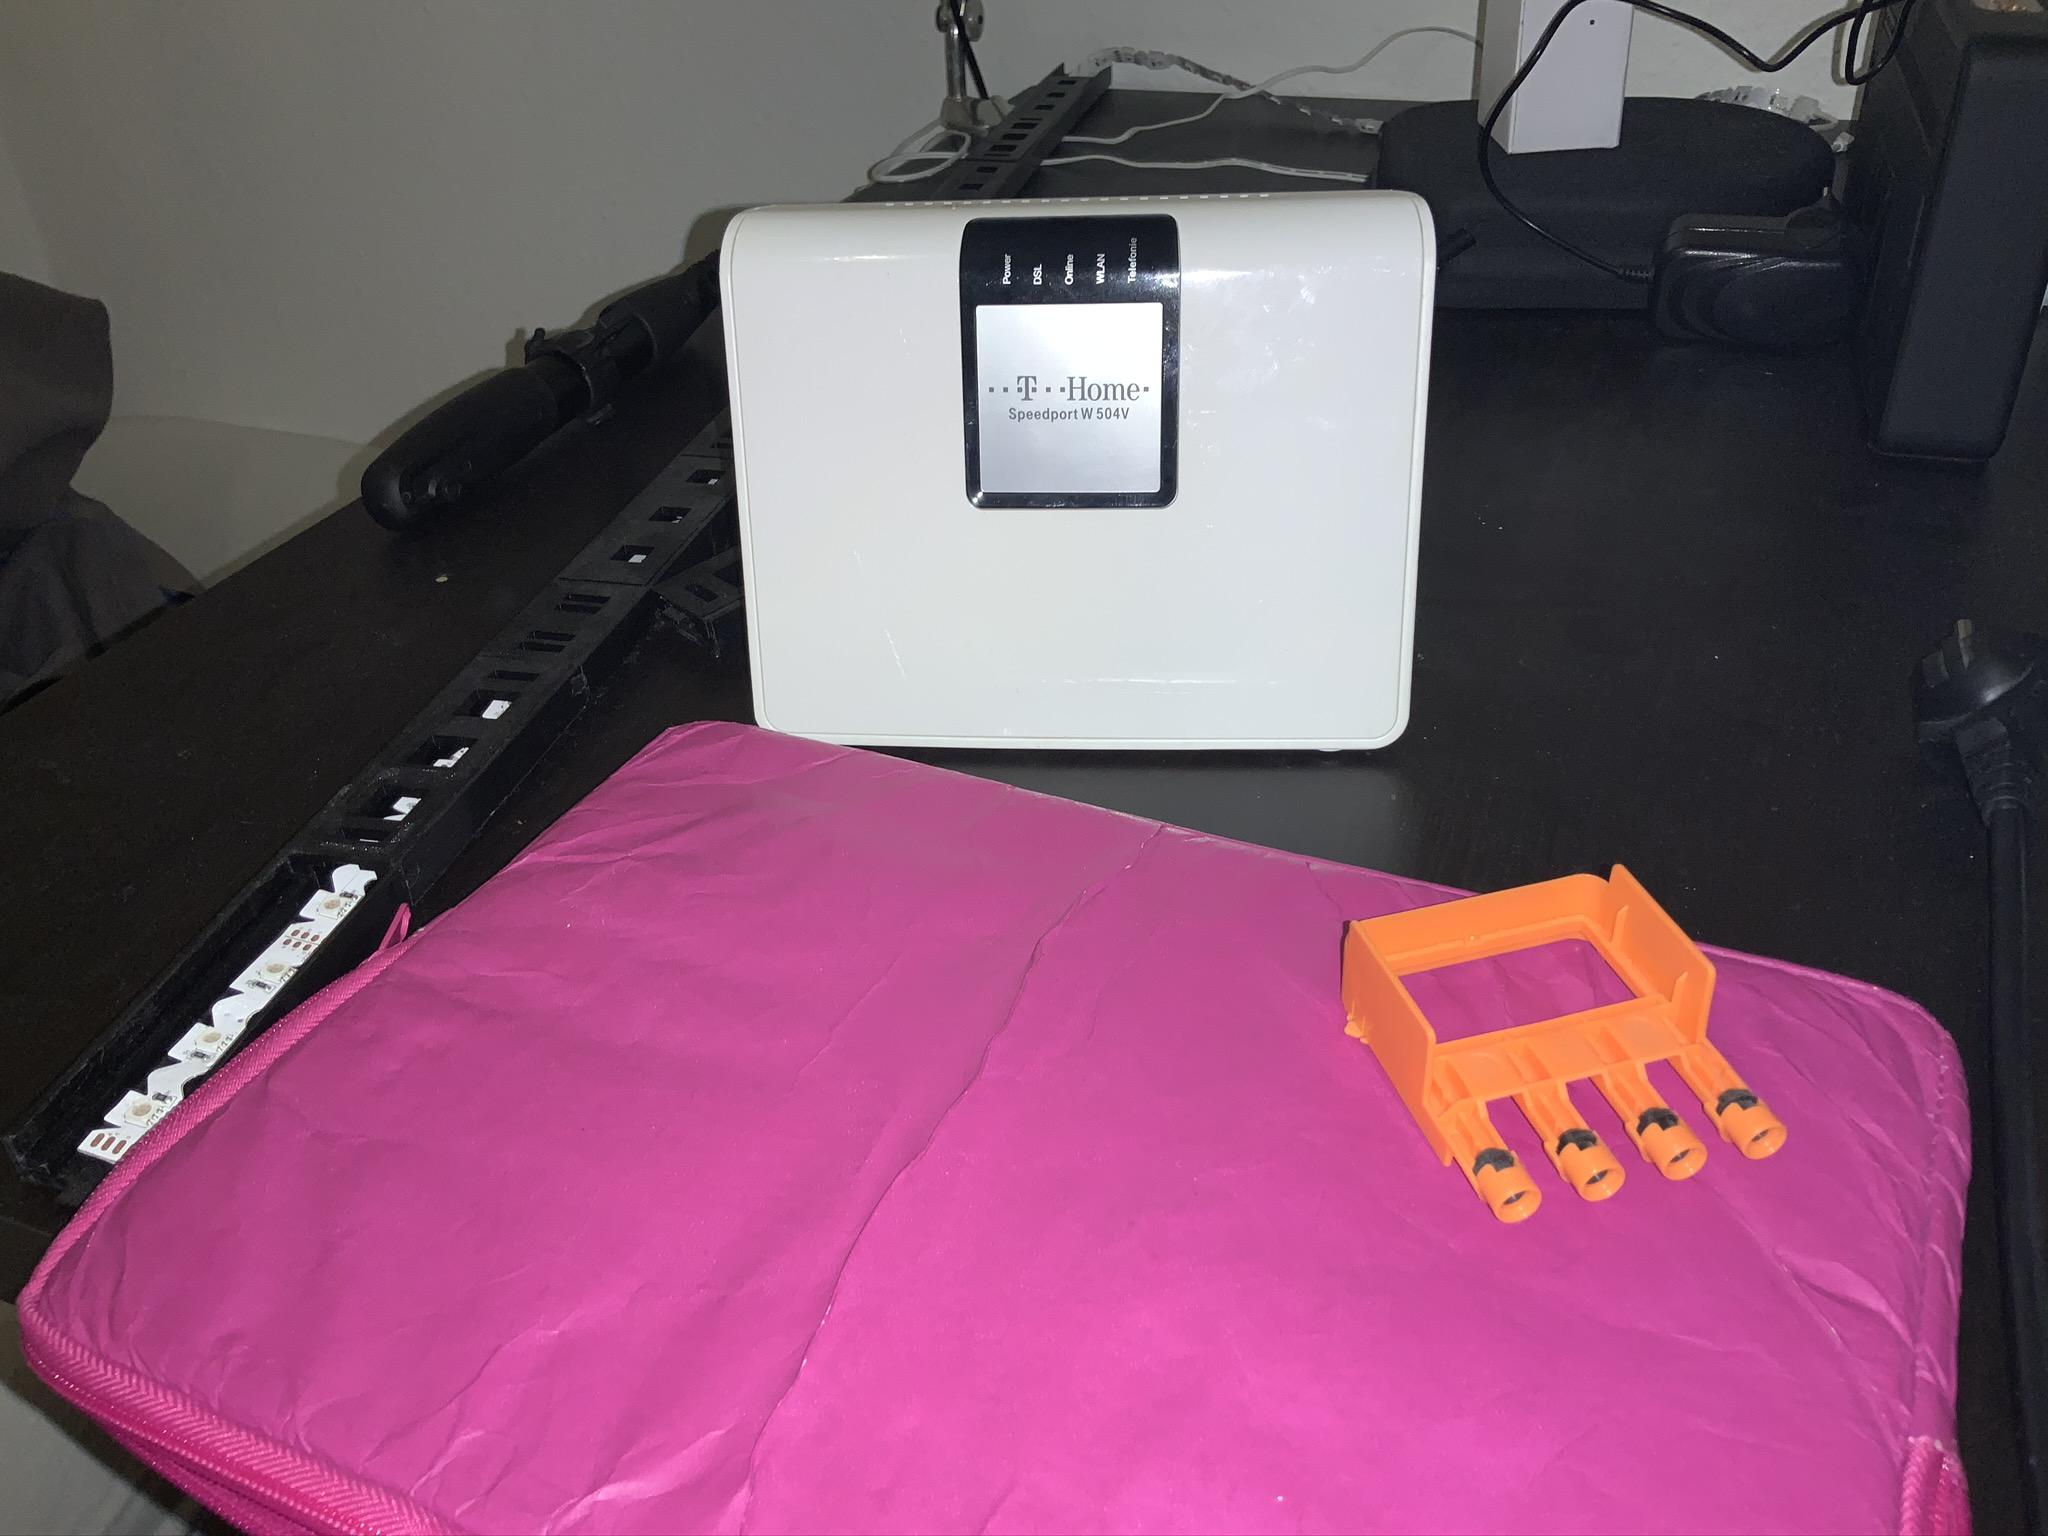Router2: (710, 174, 1445, 771)
